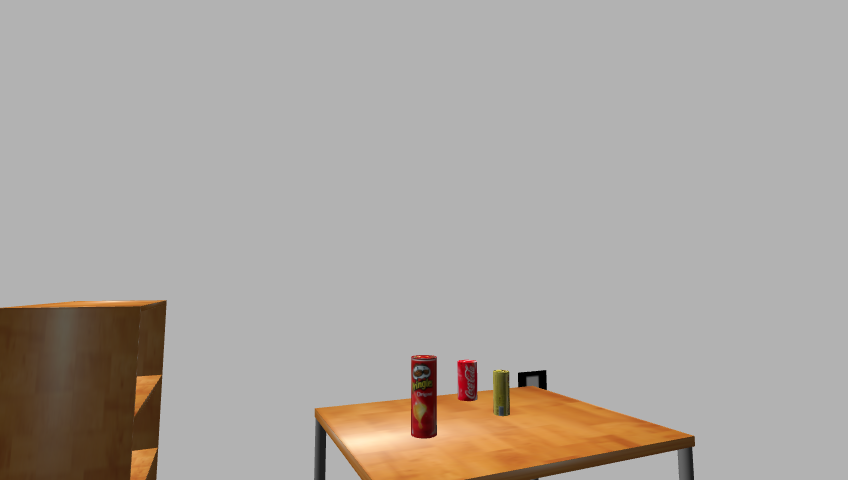aruco marker: (512, 369, 550, 393)
biscuits pack: (493, 369, 511, 417)
bookshelf: (0, 300, 174, 480)
coke can: (456, 359, 479, 402)
dinner table: (304, 386, 704, 479)
pringles can: (408, 354, 440, 441)
